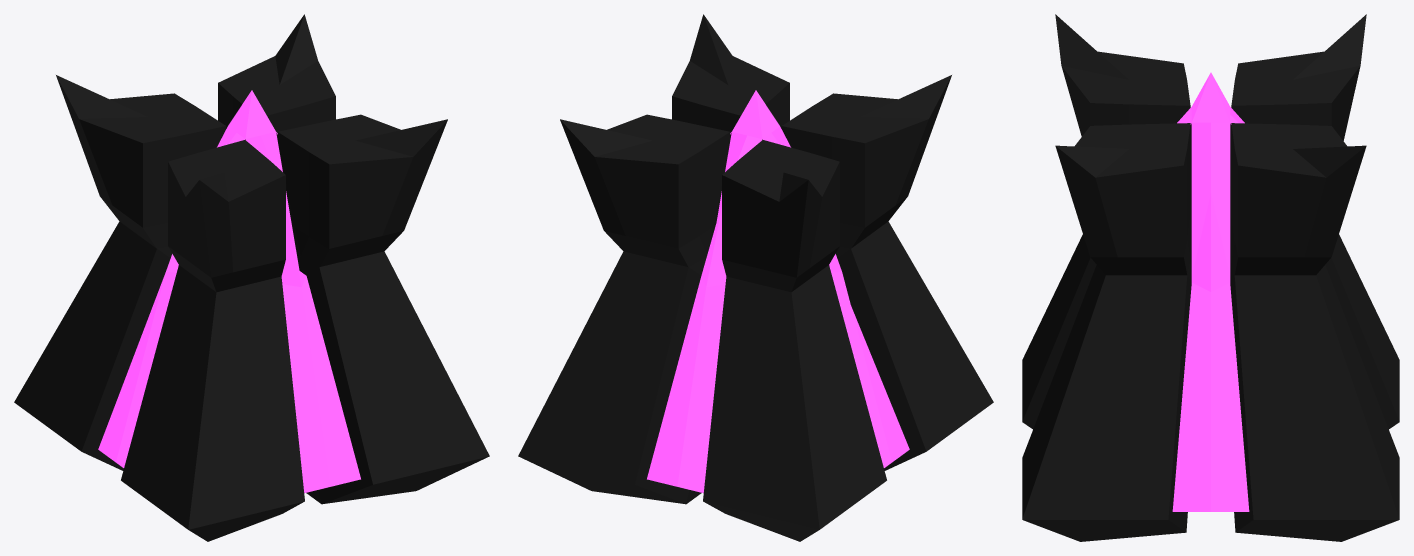
The model's file is Pyramid_m_ underworld_prototype.fbx.
3 views of the same model, side by side, from view 1: azimuth 30°, elevation 25°; view 2: azimuth 150°, elevation 25°; view 3: azimuth 270°, elevation 25° (orthographic). The views are drawn at different scales.
Parts seen in each view (by area): view 1: Cube; view 2: Cube; view 3: Cube.
Boxes of the visible parts, box(x1,y1,x2,y2) form: Cube: box(14, 14, 489, 541); Cube: box(518, 14, 993, 541); Cube: box(1022, 14, 1399, 541).
Size of the model in its own units: 322 by 390 by 322.
